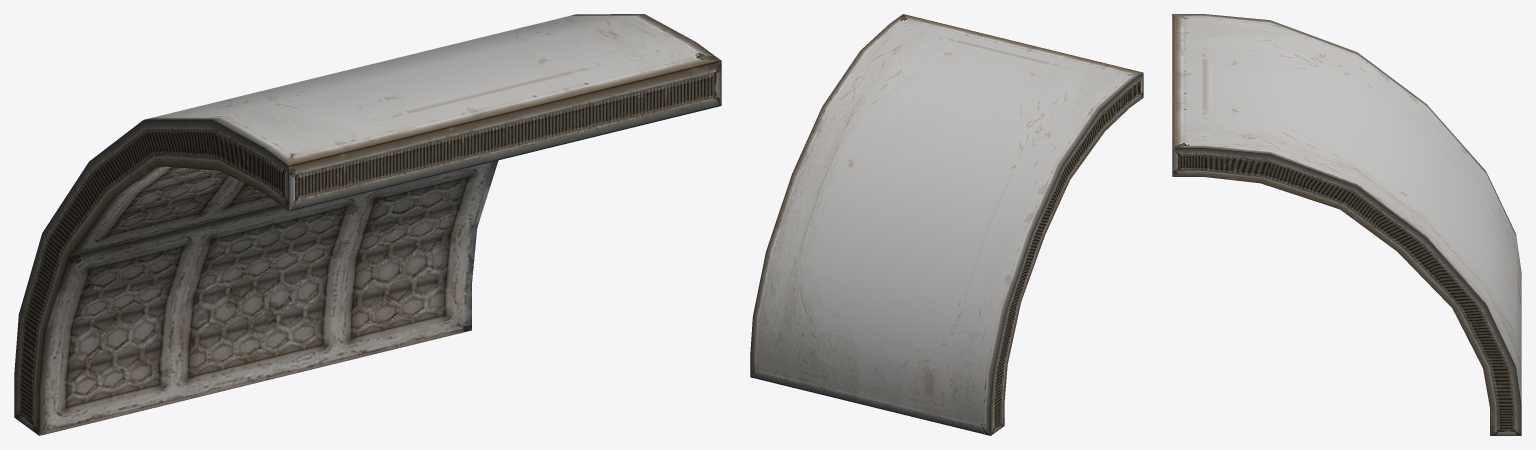
The model's file is scifi_wall_top2_12.FBX.
The picture shows the model from 3 angles, left to right: view 1: azimuth 30°, elevation 25°; view 2: azimuth 150°, elevation 25°; view 3: azimuth 270°, elevation 25°; orthographic projection. The views are drawn at different scales.
Parts seen in each view (by area): view 1: Plane333; view 2: Plane333; view 3: Plane333.
Part boxes in pixels (left/top/right/bottom): Plane333: left=14, top=14, right=721, bottom=435; Plane333: left=750, top=14, right=1143, bottom=435; Plane333: left=1172, top=14, right=1521, bottom=435.
Bounding box in the file's own units: 254 × 254 × 279.
